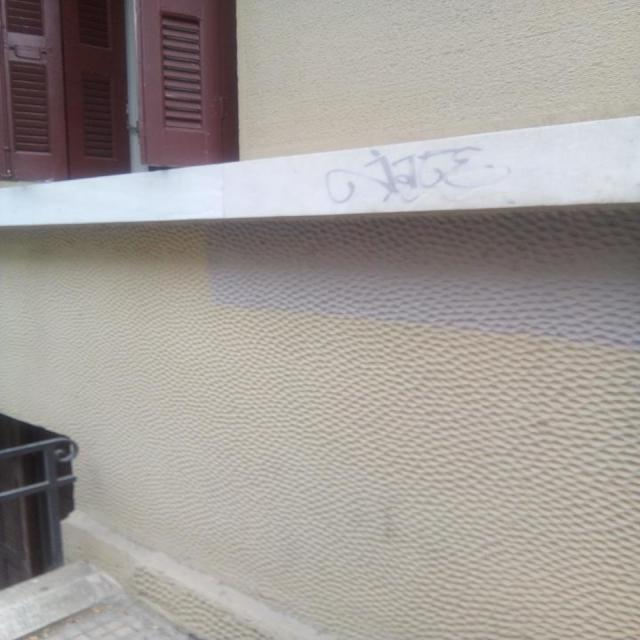nonspitting: (323, 146, 511, 205)
